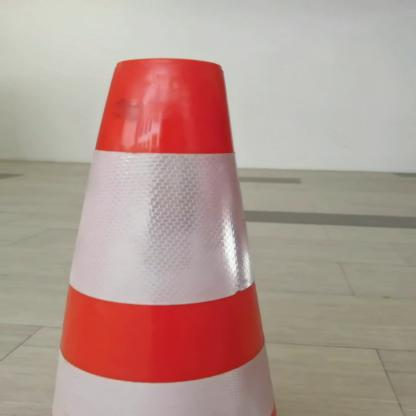cone: (50, 54, 284, 416)
